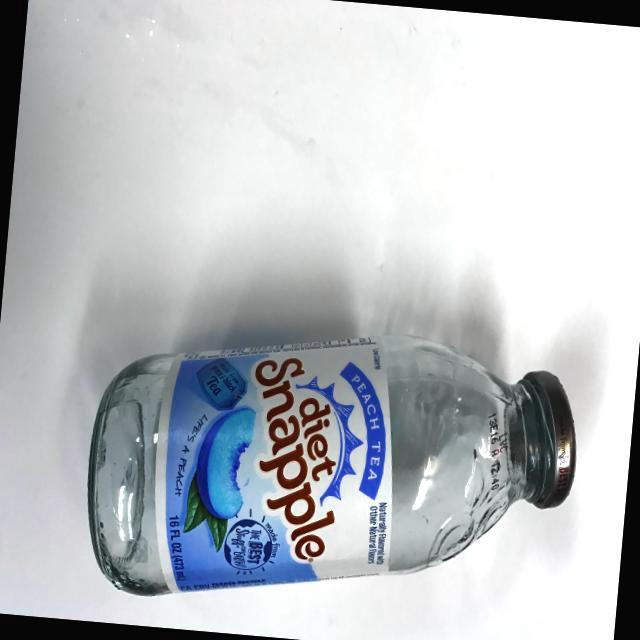glass: (59, 308, 603, 640)
